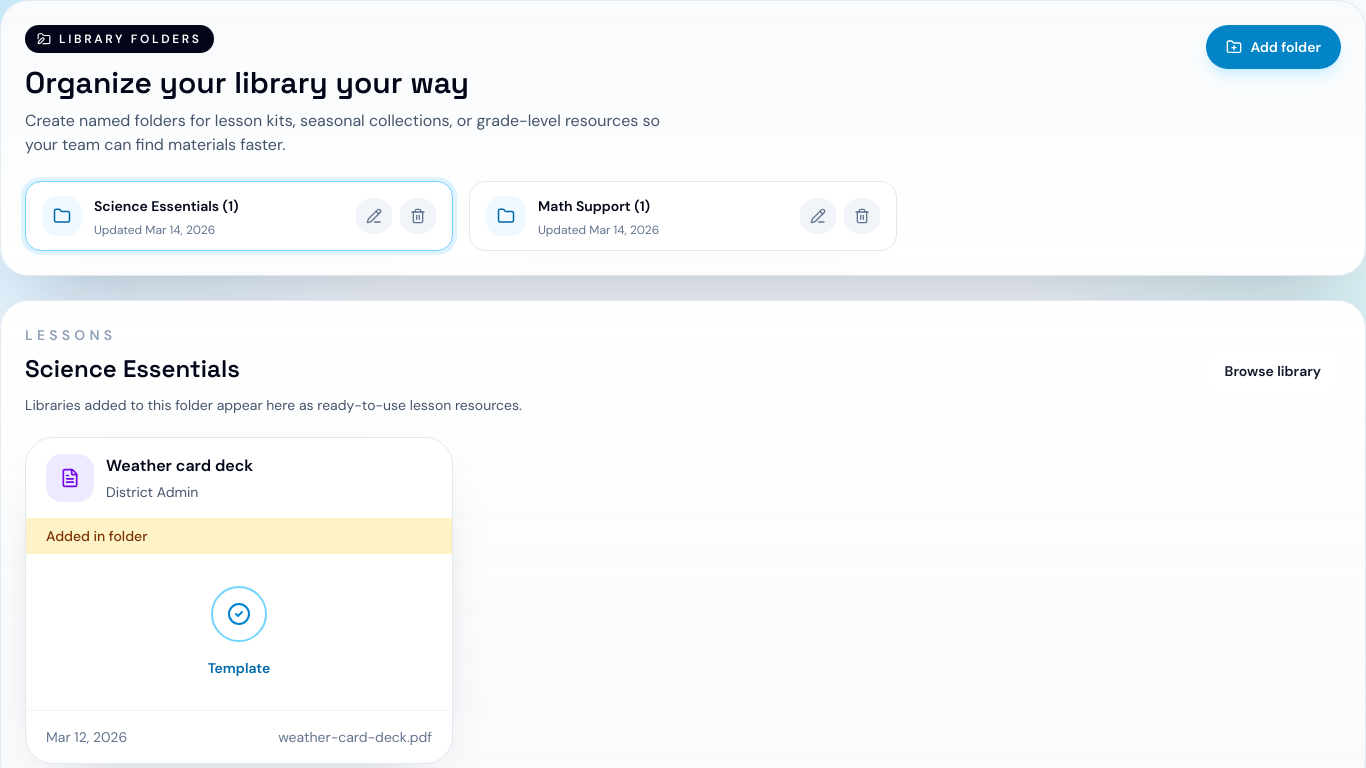
Test case: ui components › updates the lessons section for the selected folder
The width and height of the screenshot is (1366, 768).
Check: the heading "Science Essentials" is shown, box left=25, top=353, right=240, bottom=384
Check: the text "Weather card deck" is shown, box left=106, top=454, right=253, bottom=478
Step 1. Click the element with test id "library-folder__math-support" → (683, 216), box left=469, top=181, right=897, bottom=251
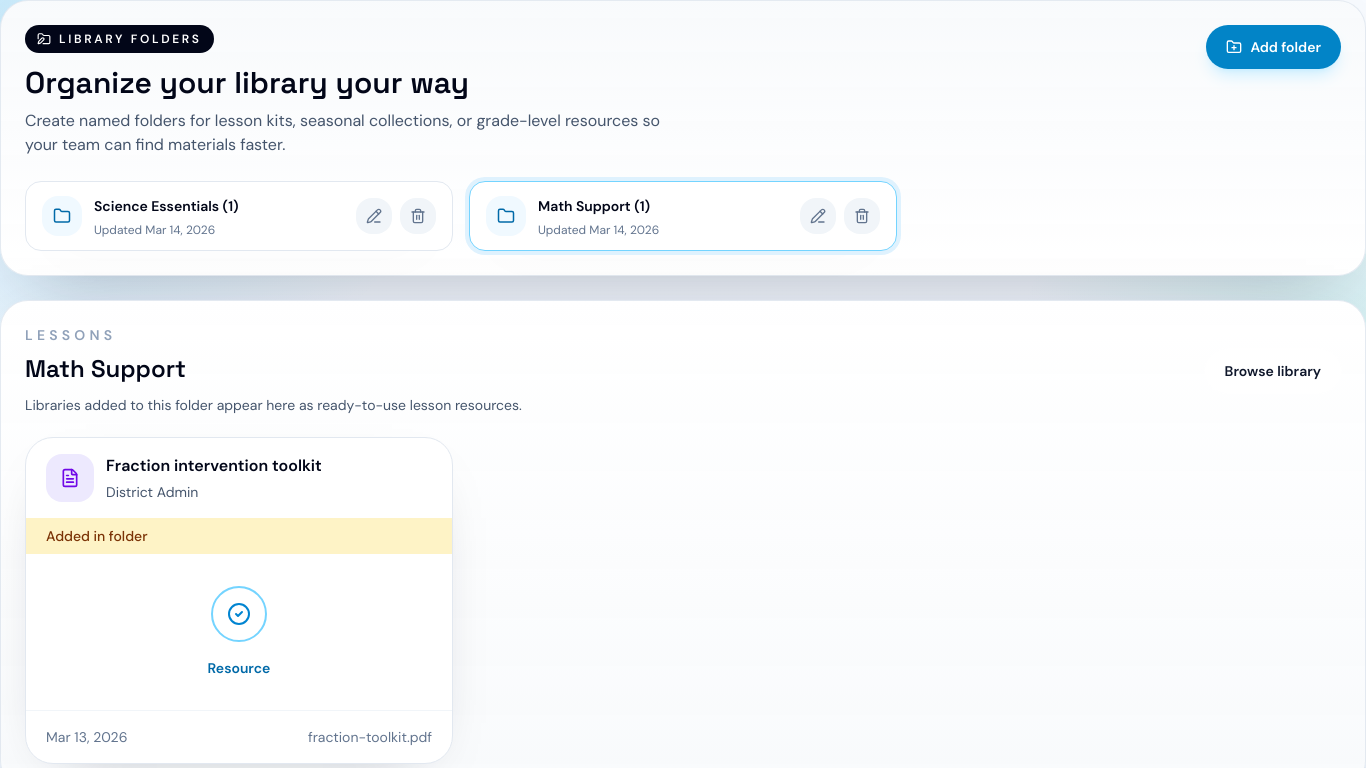
Check: the heading "Math Support" is shown, box left=25, top=353, right=186, bottom=384
Check: the text "Fraction intervention toolkit" is shown, box left=106, top=454, right=322, bottom=478
Check: the text "Weather card deck" is not shown
